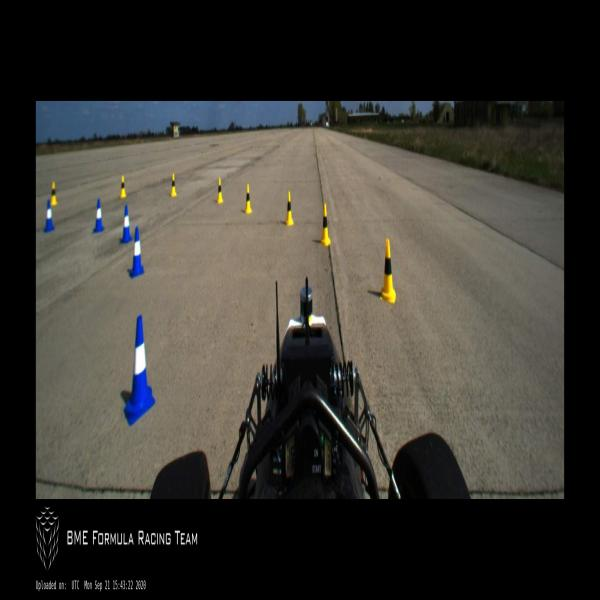blue_cone: (123, 316, 154, 425), (129, 226, 144, 278), (120, 206, 132, 244), (94, 199, 104, 234), (44, 201, 54, 232), (44, 199, 53, 232)
yellow_cone: (380, 239, 396, 303), (320, 204, 330, 246), (286, 190, 294, 225), (245, 183, 252, 214), (50, 182, 57, 205), (216, 178, 222, 204), (170, 174, 176, 197), (120, 177, 126, 198)
